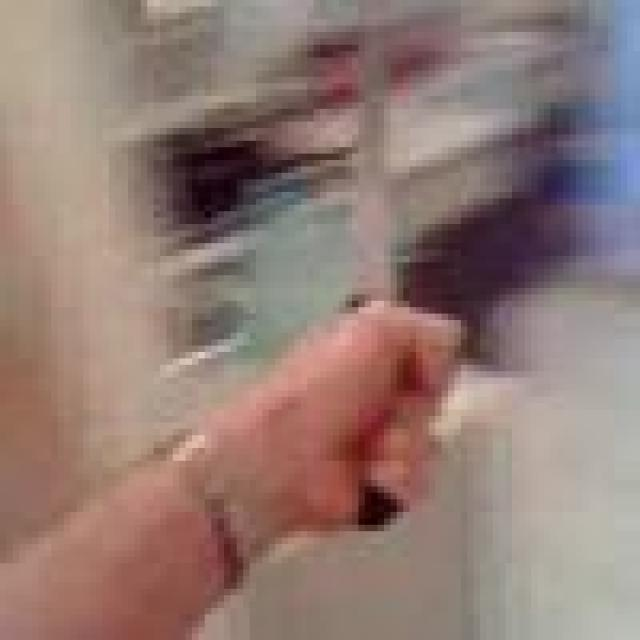knife: (339, 1, 418, 310)
